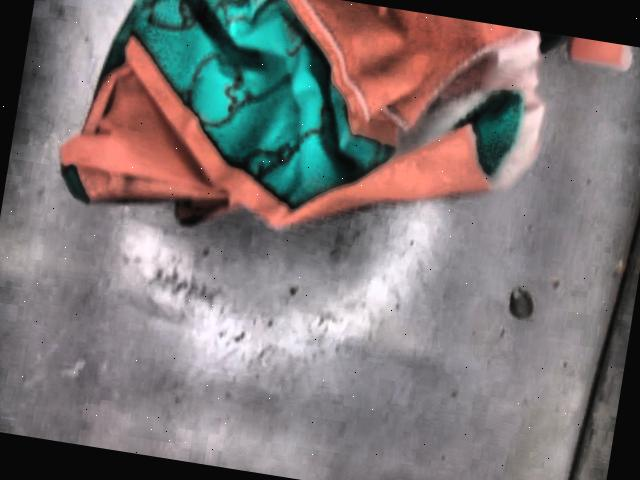Paper: (58, 0, 629, 227)
